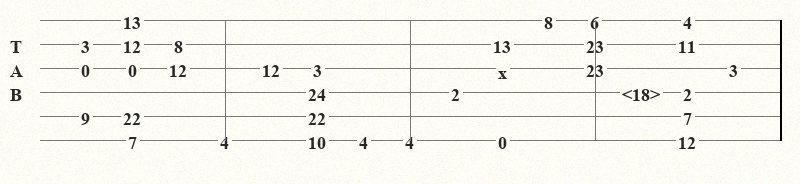0: (81, 60, 94, 76), (128, 60, 141, 76), (498, 132, 511, 148)
10: (308, 132, 330, 148)
11: (678, 36, 700, 52)
12: (123, 36, 145, 52), (169, 60, 191, 76), (262, 60, 284, 76), (678, 132, 700, 148)
13: (123, 12, 145, 28), (493, 36, 515, 52)
2: (451, 84, 464, 100), (683, 84, 696, 100)
22: (123, 108, 145, 124), (308, 108, 330, 124)
23: (586, 60, 608, 76), (586, 36, 608, 52)
24: (308, 84, 330, 100)
3: (81, 36, 94, 52), (313, 60, 326, 76), (729, 60, 742, 76)
4: (220, 132, 233, 148), (359, 132, 372, 148), (405, 132, 418, 148), (683, 12, 696, 28)
6: (590, 12, 603, 28)
7: (128, 132, 141, 148), (683, 108, 696, 124)
8: (174, 36, 187, 52), (544, 12, 557, 28)
9: (81, 108, 94, 124)
harmonic: (622, 84, 664, 100)
x: (498, 62, 511, 74)
